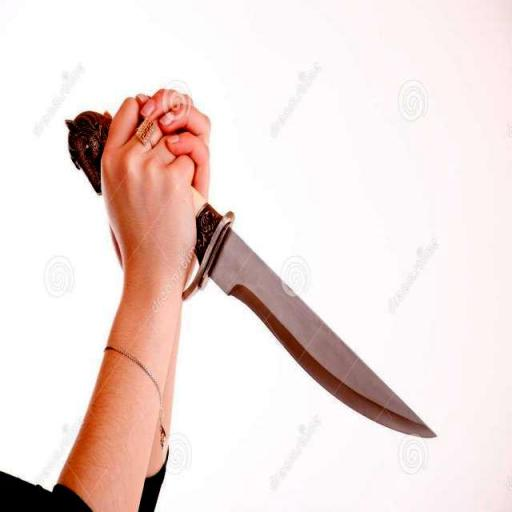knife: (68, 102, 438, 437)
